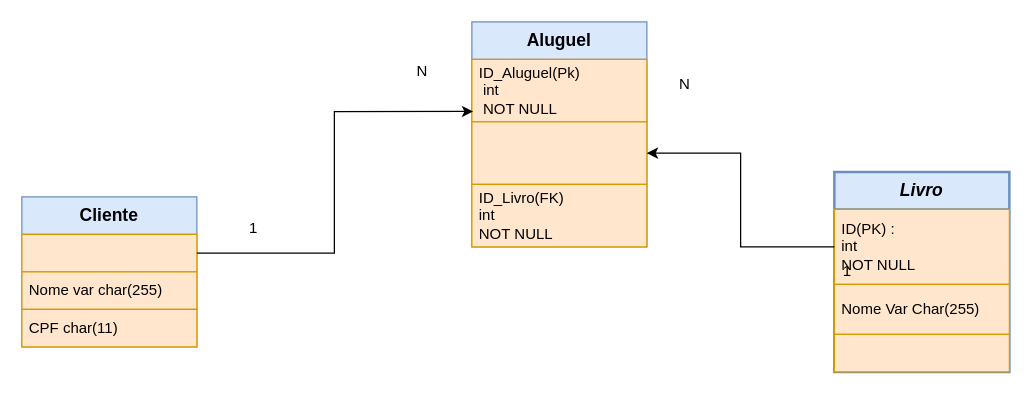
This 1033x395 diagram has some shape labels left out. Each missing label, with the centre of its shape:
Autor: Var Char(255): point 921,352
ID(PK) int NOT NULL: point 109,252
ID_Cliente(Fk) int NOT NULL: point 559,152
